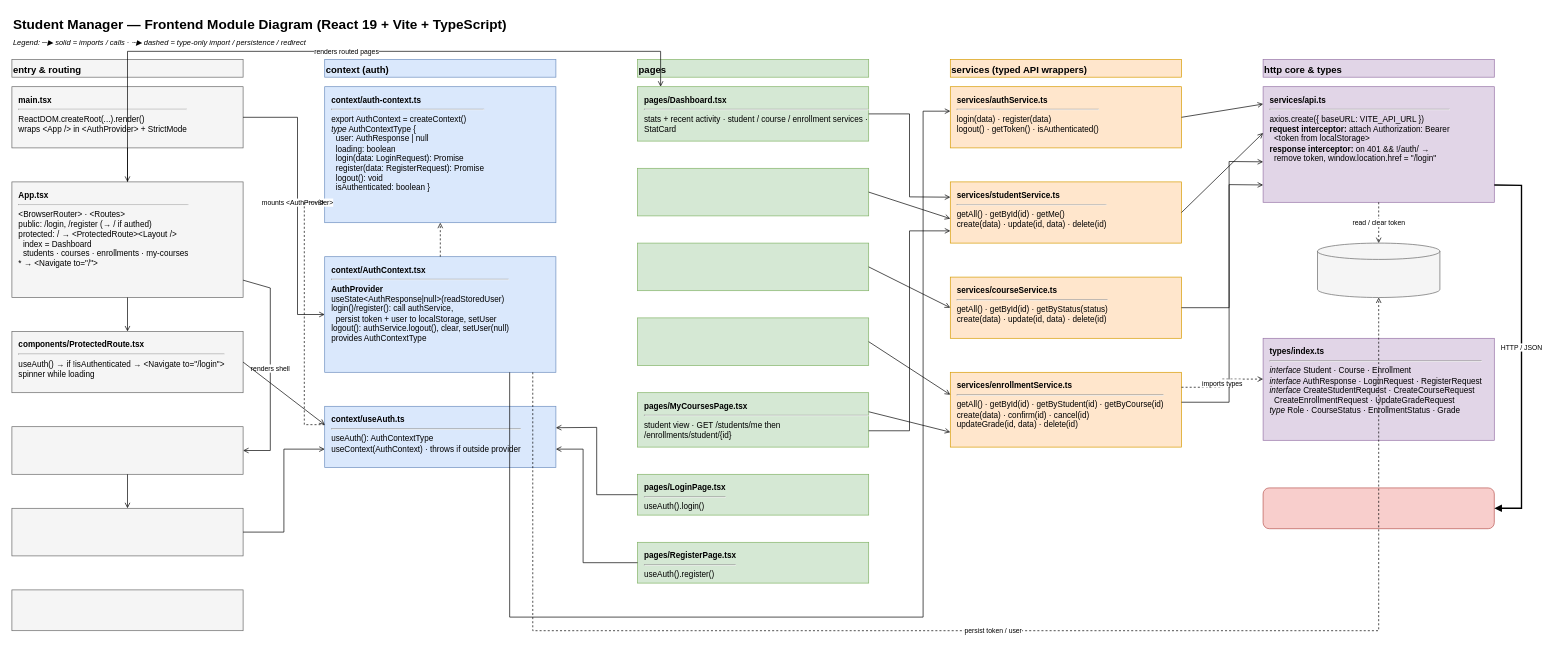
Some shapes in this 1554 by 648 pixel diagram are drawn without their labels. The box of each missing label's shape, as (x1, y1, x2, y2) in pixels:
Backend REST API /api/** (see System Architecture page): (1262, 487, 1494, 529)
components/Layout.tsx app shell · <Outlet /> · renders Sidebar: (11, 426, 243, 474)
components/Sidebar.tsx nav links · role-aware items · logout(): (11, 508, 243, 556)
components/StatCard.tsx presentational stat tile (used by Dashboard): (11, 589, 243, 631)
localStorage token · user: (1317, 242, 1440, 298)
pages/CoursesPage.tsx list / create / update / delete courses · status filter: (637, 242, 869, 291)
pages/EnrollmentsPage.tsx enroll · confirm · cancel · grade (TEACHER, ADMIN): (637, 317, 869, 366)
pages/StudentsPage.tsx list / create / delete students (TEACHER, ADMIN): (637, 168, 869, 216)
